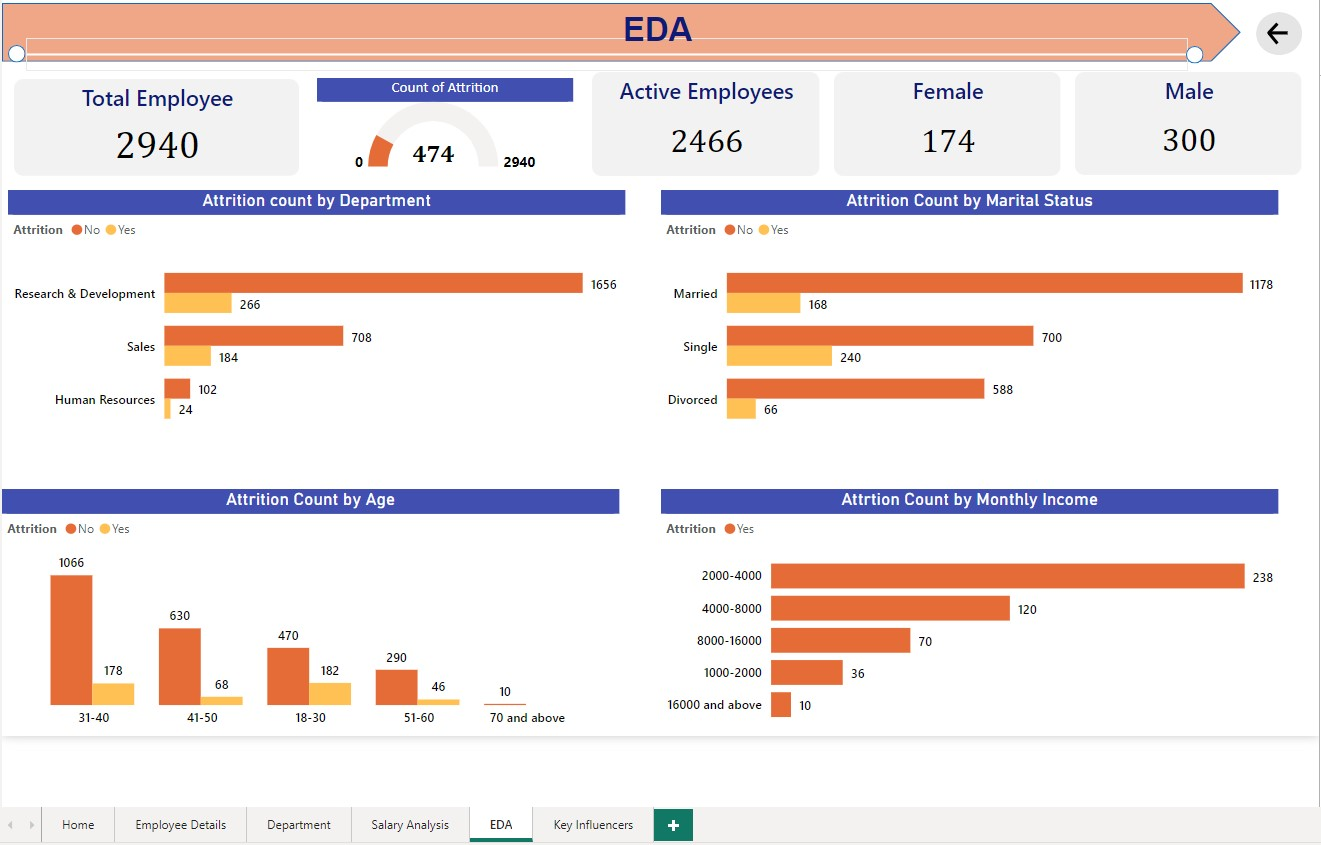

This screenshot's page, from the dashboard's own definition file:
{"tool":"powerbi","page":{"name":"EDA","canvas":[1280,720],"ordinal":4},"visuals":[{"type":"card","title":"Active Employees","fields":{"Values":["CountNonNull(HR_Employee_Attrition_Data.Attrition)"]},"box":[572.5,73.9,222.6,103],"z":0},{"type":"card","title":"Female","fields":{"Values":["CountNonNull(HR_Employee_Attrition_Data.Gender)"]},"box":[807.7,73.9,221.6,103],"z":1000},{"type":"card","title":"Male","fields":{"Values":["CountNonNull(HR_Employee_Attrition_Data.Gender)"]},"box":[1041.9,73.9,221.6,102.1],"z":2000},{"type":"gauge","title":"Count of Attrition","fields":{"MaxValue":["HR_Employee_Attrition_Data.Total_count"],"Y":["Sum(HR_Employee_Attrition_Data.AttritionCal)"]},"box":[306.2,80.7,248.8,96.2],"z":3000},{"type":"clusteredBarChart","title":"Attrition count by Department ","fields":{"Category":["HR_Employee_Attrition_Data.Department"],"Y":["HR_Employee_Attrition_Data.Total_count"],"Series":["Attrition.Attrition"]},"box":[5.8,189.5,600,250],"z":4000},{"type":"clusteredBarChart","title":"Attrition Count by Marital Status","fields":{"Category":["Attrition.MaritalStatus"],"Y":["CountNonNull(Attrition.MaritalStatus)"],"Series":["Attrition.Attrition"]},"box":[640.5,189.1,600,250],"z":5000},{"type":"clusteredColumnChart","title":"Attrition Count by Age","fields":{"Category":["HR_Employee_Attrition_Data.Age Bin"],"Y":["HR_Employee_Attrition_Data.Total_count"],"Series":["Attrition.Attrition"]},"box":[0,480,600,240],"z":6000},{"type":"clusteredBarChart","title":"Attrtion Count by Monthly Income ","fields":{"Category":["HR_Employee_Attrition_Data.MonthlyIncome(bins)"],"Series":["Attrition.Attrition"],"Y":["CountNonNull(HR_Employee_Attrition_Data.MonthlyIncome(bins))"]},"box":[640.5,480.1,600,240],"z":7000},{"type":"shape","box":[0,7.8,1204.2,57.3],"z":8000},{"type":"shape","box":[23.3,41.8,1129.4,32.1],"z":9000},{"type":"textbox","box":[335.3,10.7,603.6,52.5],"z":10000},{"type":"shape","box":[5.8,48.6,17.5,16.5],"z":11000},{"type":"shape","box":[1150.7,49.6,17.5,16.5],"z":12000},{"type":"actionButton","box":[1218.8,16.5,44.7,41.8],"z":13000},{"type":"card","title":"Total Employee","fields":{"Values":["HR_Employee_Attrition_Data.Total_count"]},"box":[10.7,80.7,278.9,96.2],"z":14000}]}

Visuals, with their boxes on the page's 1280x720 design canvas (x1, y1, x2, y2). These are canvas units, not pixel positions in the 1321x845 screenshot, which may show the page scaled, cropped or inside an application window:
"Active Employees" card: l=572, t=74, r=795, b=177
"Female" card: l=808, t=74, r=1029, b=177
"Male" card: l=1042, t=74, r=1264, b=176
"Count of Attrition" gauge: l=306, t=81, r=555, b=177
"Attrition count by Department " clusteredBarChart: l=6, t=190, r=606, b=440
"Attrition Count by Marital Status" clusteredBarChart: l=640, t=189, r=1240, b=439
"Attrition Count by Age" clusteredColumnChart: l=0, t=480, r=600, b=720
"Attrtion Count by Monthly Income " clusteredBarChart: l=640, t=480, r=1240, b=720
shape: l=0, t=8, r=1204, b=65
shape: l=23, t=42, r=1153, b=74
textbox: l=335, t=11, r=939, b=63
shape: l=6, t=49, r=23, b=65
shape: l=1151, t=50, r=1168, b=66
actionButton: l=1219, t=16, r=1264, b=58
"Total Employee" card: l=11, t=81, r=290, b=177
